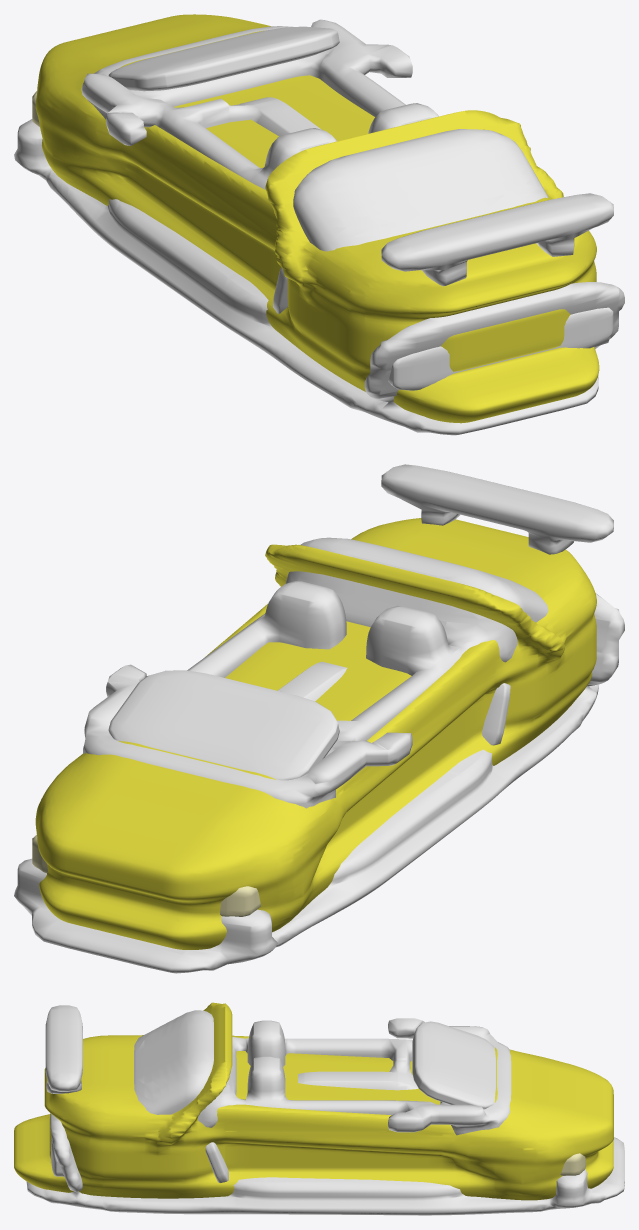
The model's file is metaball-sportscar.fbx.
3 renders of one model, top to bottom at view 1: azimuth 30°, elevation 25°; view 2: azimuth 150°, elevation 25°; view 3: azimuth 270°, elevation 25°, orthographic. The views are drawn at different scales.
Visible parts, largest first — view 1: body, chassis, window, red-lights; view 2: body, chassis, window, white-lights, intake; view 3: body, chassis, window, intake, white-lights.
Boxes of the visible parts, x1,y1,x2,y2 form: body: [35, 14, 599, 423]; chassis: [14, 19, 624, 435]; window: [108, 26, 339, 91]; red-lights: [388, 307, 613, 390]; body: [35, 518, 596, 949]; chassis: [14, 464, 624, 973]; window: [108, 670, 339, 780]; white-lights: [32, 835, 260, 916]; intake: [482, 683, 510, 745]; body: [14, 1002, 613, 1200]; chassis: [26, 1005, 624, 1215]; window: [412, 1021, 495, 1109]; intake: [205, 1142, 228, 1182]; white-lights: [560, 1153, 585, 1175].
Bounding box in the file's own units: 568 × 373 × 1449.
